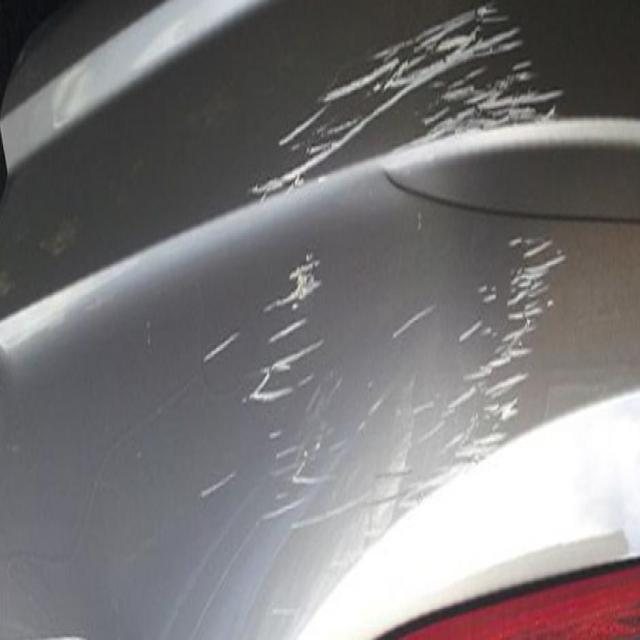scratch: (210, 7, 580, 556)
